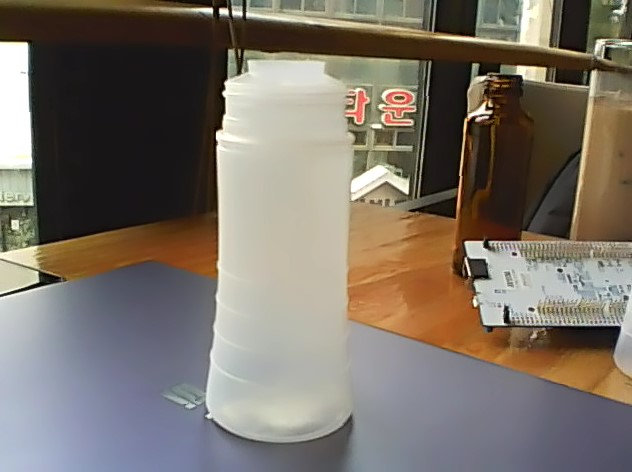Plastic: (201, 56, 355, 449)
